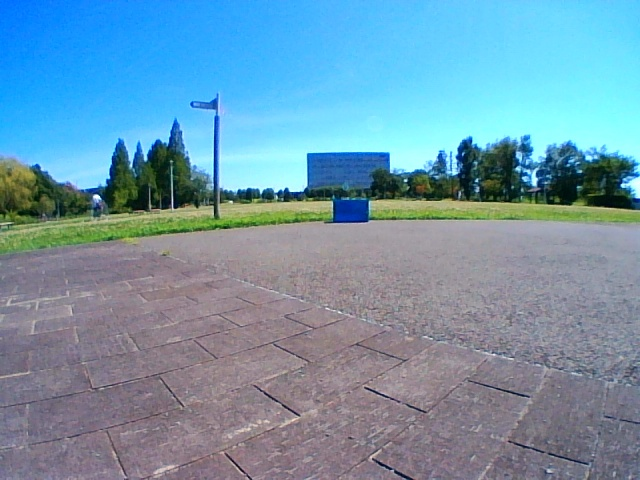blue_box: (334, 198, 368, 222)
